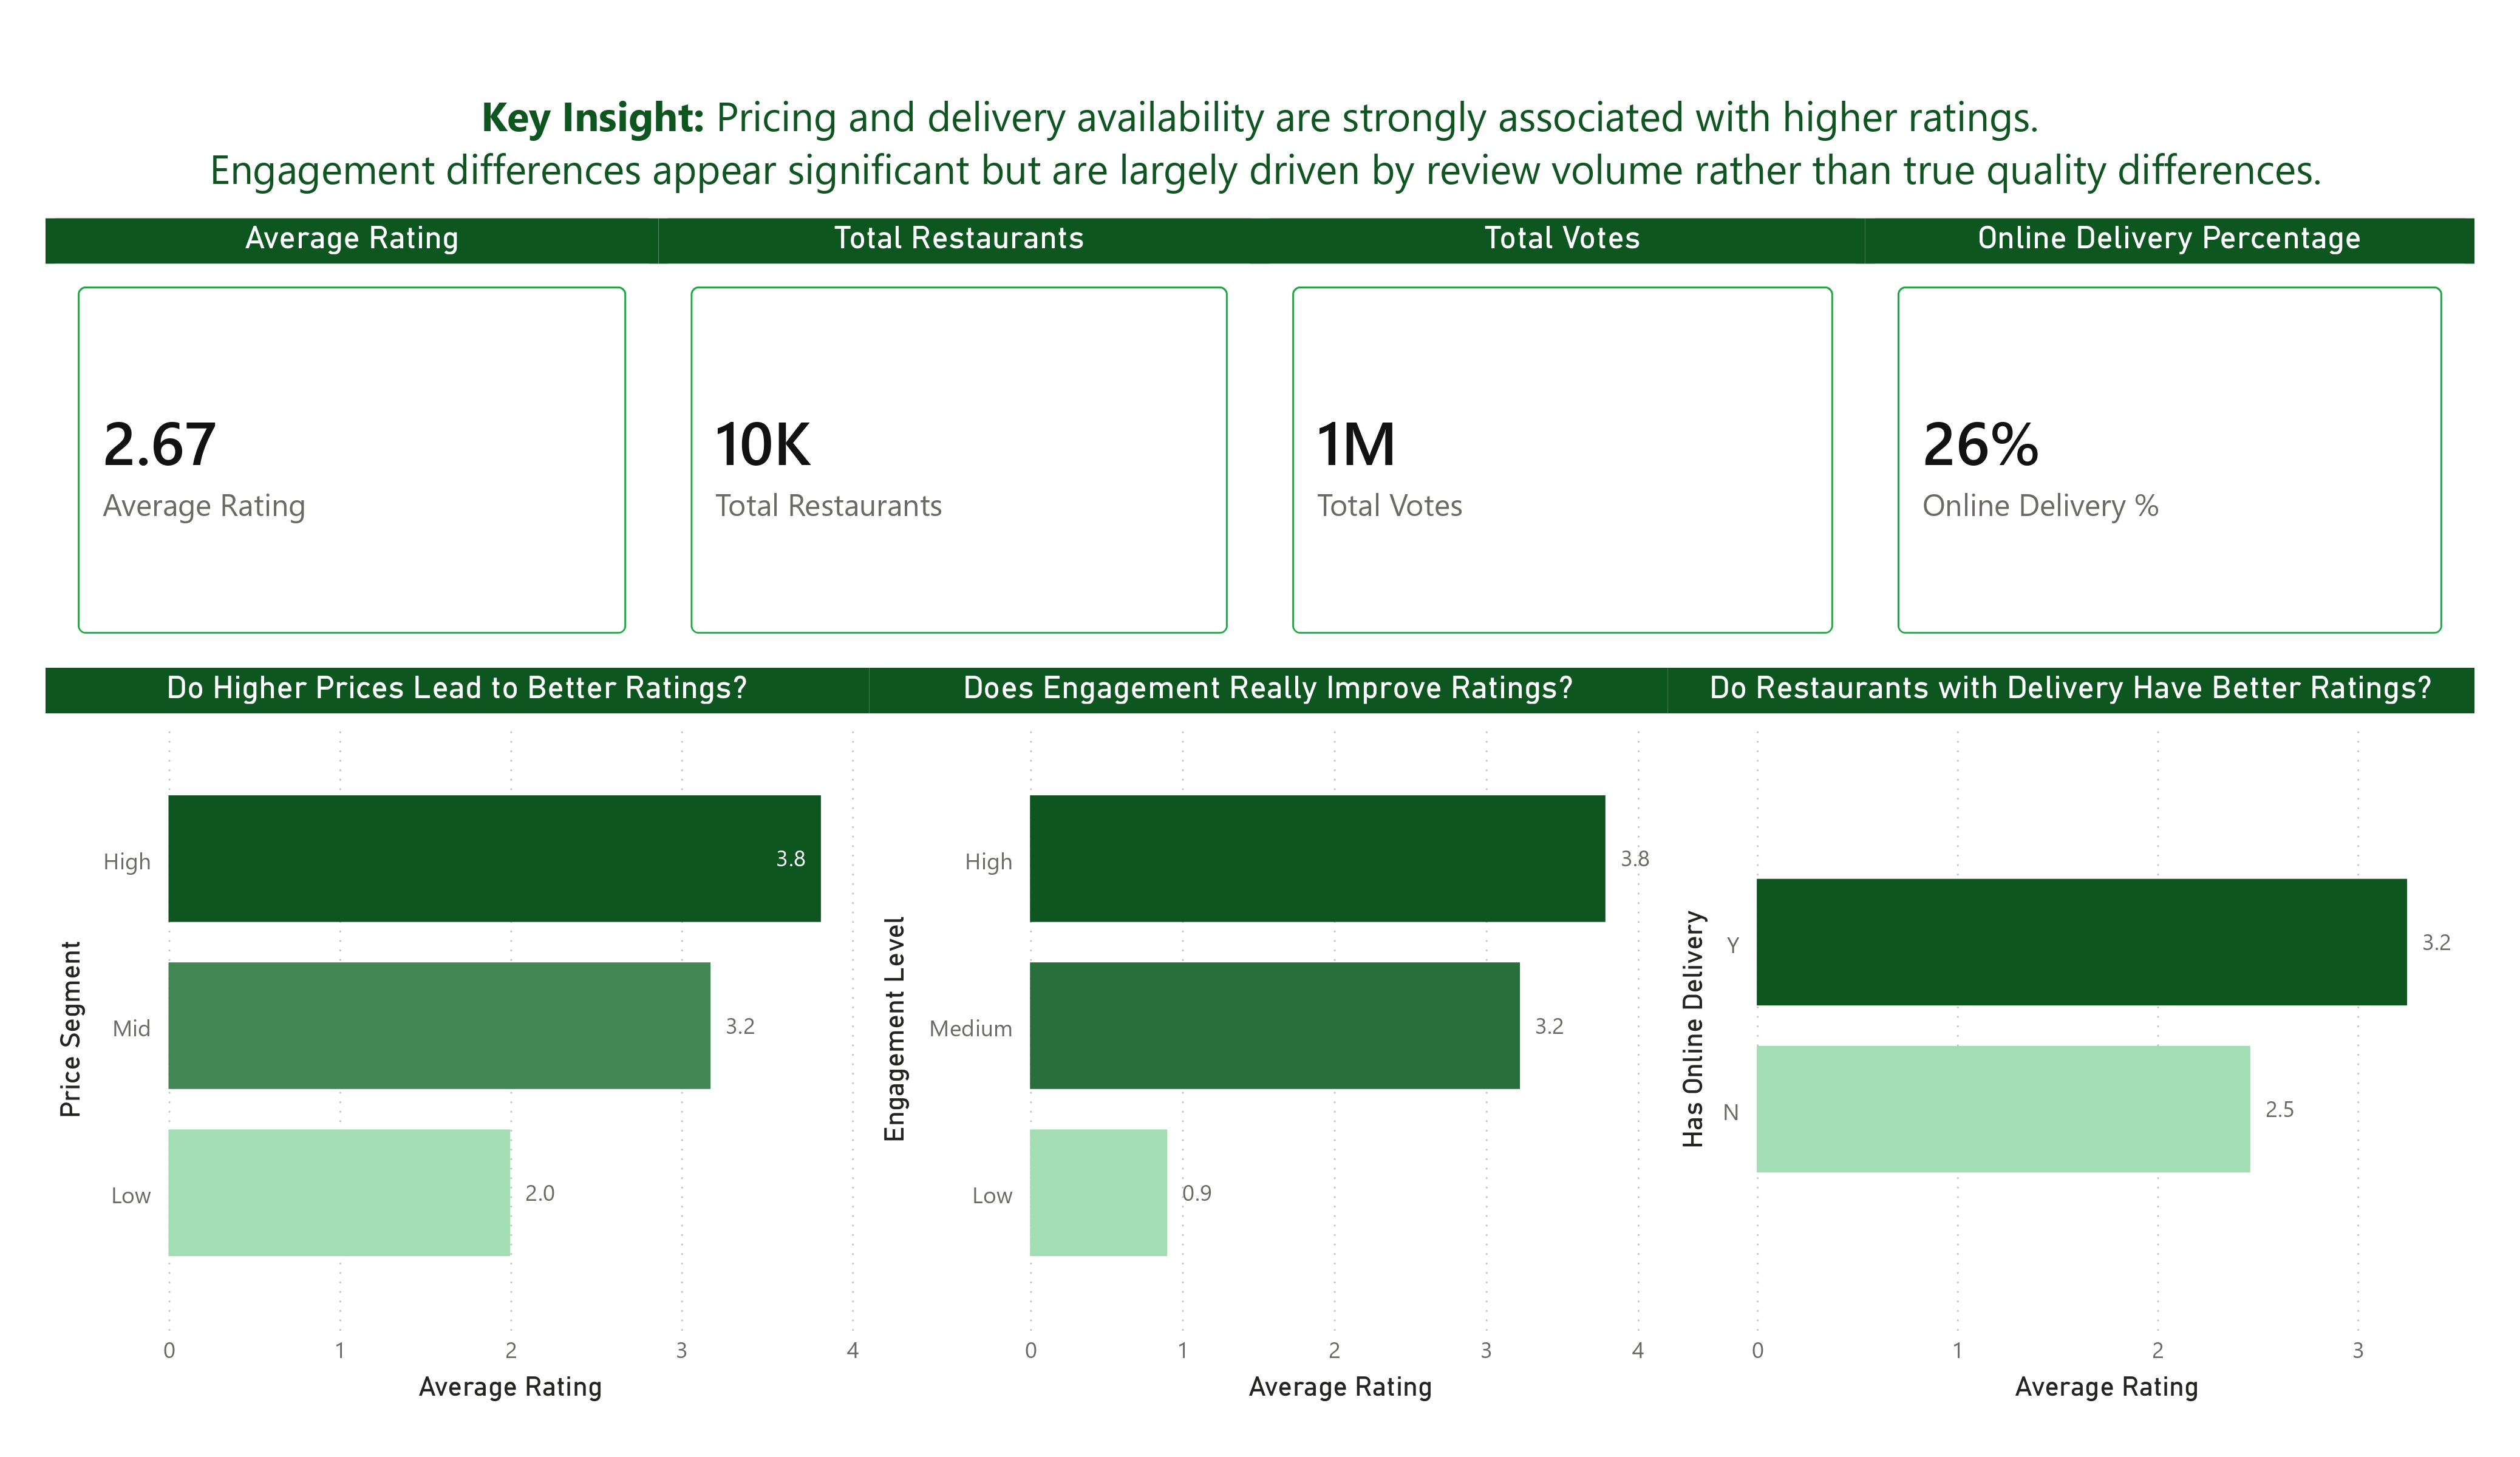

This screenshot's page, from the dashboard's own definition file:
{"tool":"powerbi","page":{"name":"Business Overview","canvas":[1280,720],"ordinal":0},"visuals":[{"type":"cardVisual","title":"Average Rating","fields":{"Data":["public zomato_analytics.Avg Rating"]},"box":[0,91.2,322.5,236.2],"z":0},{"type":"cardVisual","title":"Total Restaurants","fields":{"Data":["public zomato_analytics.Total Restaurants"]},"box":[322.5,91.2,317.5,236.2],"z":1000},{"type":"cardVisual","title":"Total Votes","fields":{"Data":["public zomato_analytics.Total Votes"]},"box":[640,91.2,318.8,236.2],"z":2000},{"type":"cardVisual","title":"Online Delivery Percentage","fields":{"Data":["public zomato_analytics.Online Delivery %"]},"box":[958.8,91.2,321.2,236.2],"z":3000},{"type":"barChart","title":"Do Higher Prices Lead to Better Ratings?","fields":{"Y":["Avg(public zomato_analytics.aggregate_rating)"],"Category":["public zomato_analytics.price_segment"]},"box":[0,327.5,433.8,392.5],"z":4000},{"type":"barChart","title":"Does Engagement Really Improve Ratings?","fields":{"Y":["Avg(public zomato_analytics.aggregate_rating)"],"Category":["public zomato_analytics.engagement_level"]},"box":[433.8,327.5,421.2,392.5],"z":5000},{"type":"barChart","title":"Do Restaurants with Delivery Have Better Ratings?","fields":{"Category":["public zomato_analytics.has_online_delivery"],"Y":["Avg(public zomato_analytics.aggregate_rating)"]},"box":[855,327.5,425,392.5],"z":6000},{"type":"textbox","box":[0,0,1280,91.2],"z":7000}]}

Visuals, with their boxes on the page's 1280x720 design canvas (x1, y1, x2, y2). These are canvas units, not pixel positions in the 2520x1457 screenshot, which may show the page scaled, cropped or inside an application window:
"Average Rating" cardVisual: [0, 91, 322, 327]
"Total Restaurants" cardVisual: [322, 91, 640, 327]
"Total Votes" cardVisual: [640, 91, 959, 327]
"Online Delivery Percentage" cardVisual: [959, 91, 1280, 327]
"Do Higher Prices Lead to Better Ratings?" barChart: [0, 328, 434, 720]
"Does Engagement Really Improve Ratings?" barChart: [434, 328, 855, 720]
"Do Restaurants with Delivery Have Better Ratings?" barChart: [855, 328, 1280, 720]
textbox: [0, 0, 1280, 91]
